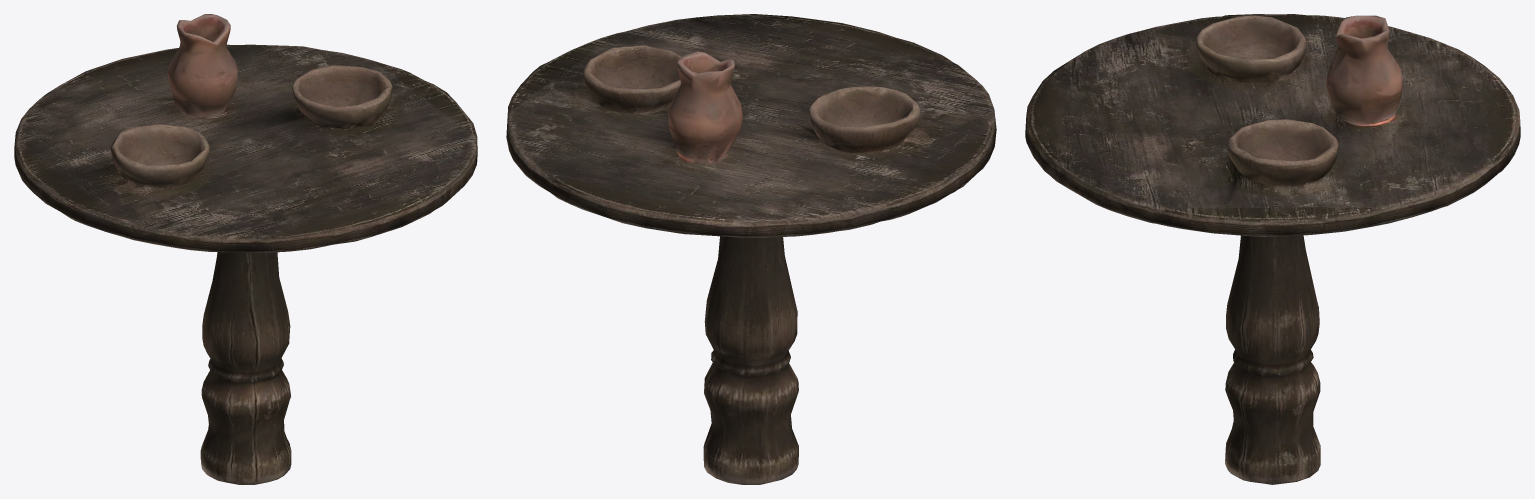
The model's file is table.glb.
3 views of the same model, side by side, from view 1: azimuth 30°, elevation 25°; view 2: azimuth 150°, elevation 25°; view 3: azimuth 270°, elevation 25° (orthographic). The views are drawn at different scales.
Parts seen in each view (by area): view 1: Mesh_0; view 2: Mesh_0; view 3: Mesh_0.
Part boxes in pixels (x1,y1,x2,y2): Mesh_0: [14, 14, 477, 484]; Mesh_0: [506, 14, 996, 484]; Mesh_0: [1025, 14, 1520, 484].
Bounding box in the file's own units: 1.89 × 1.86 × 1.89.
1 material, 1 textured.
